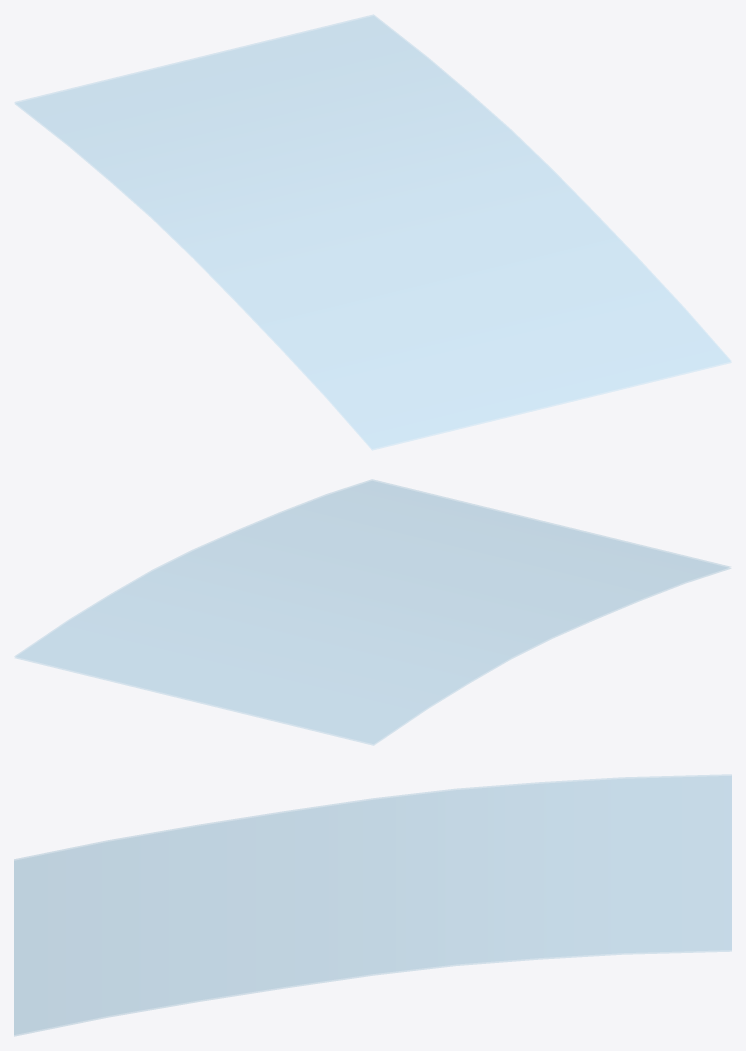
The picture shows the model from 3 angles, top to bottom: view 1: azimuth 30°, elevation 25°; view 2: azimuth 150°, elevation 25°; view 3: azimuth 270°, elevation 25°; orthographic projection.
Parts seen in each view (by area): view 1: part6:lid; view 2: part6:lid; view 3: part6:lid.
Boxes of the visible parts, x1,y1,x2,y2 form: part6:lid: (14,14,731,450); part6:lid: (14,479,731,745); part6:lid: (14,774,731,1036).
Bounding box in the file's own units: 0.4756 × 0.1092 × 0.8201.
